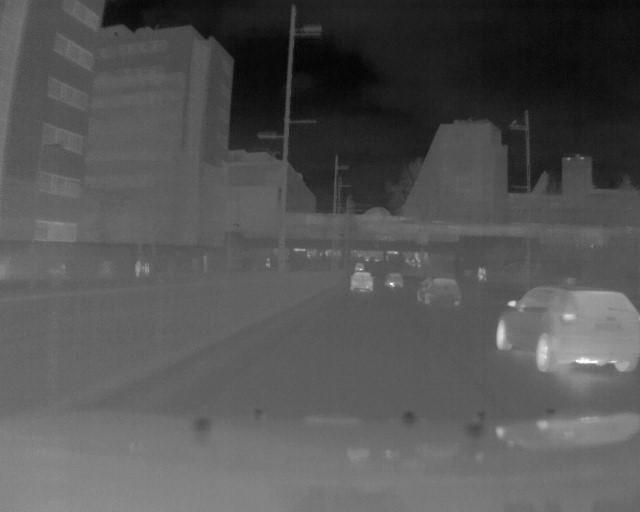car: (494, 284, 640, 375), (415, 276, 463, 307), (349, 271, 374, 295)
person: (133, 256, 143, 283)
